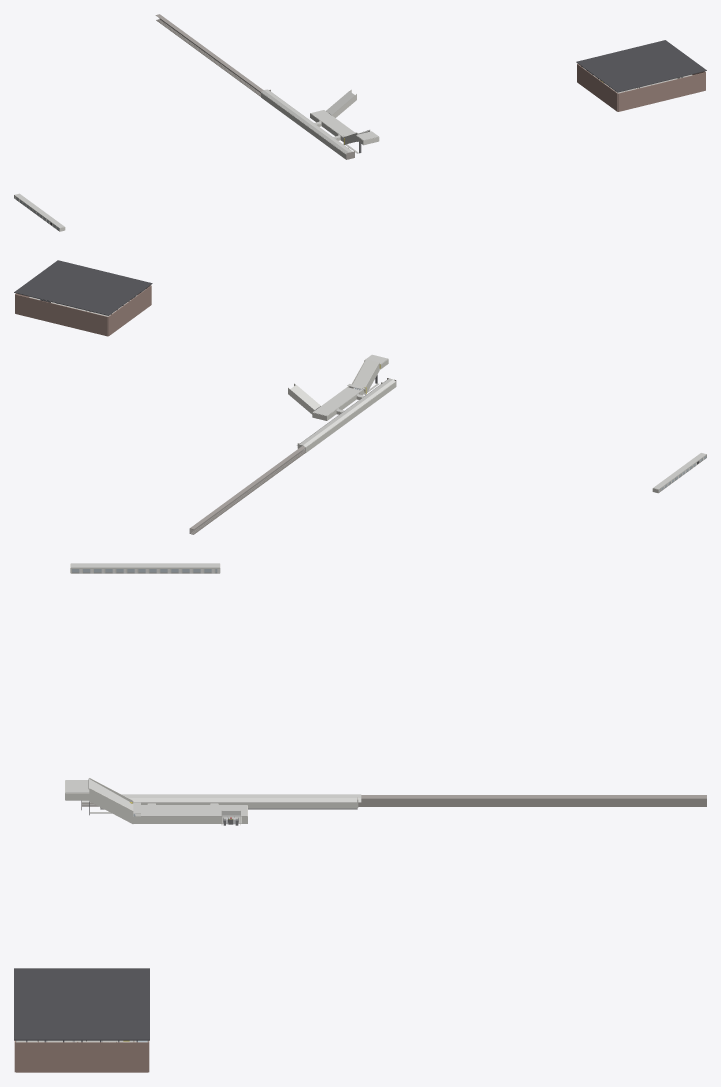
3 views of the same model, one above another, from view 1: azimuth 30°, elevation 25°; view 2: azimuth 150°, elevation 25°; view 3: azimuth 270°, elevation 25° (orthographic). The views are drawn at different scales.
Parts seen in each view (by area): view 1: S02_roof, S02_wall_s, S02_wall_w, S04_wall_w, S04_tunnel_top, S04_trackbed, S05_ceiling, S04_vault2, S04_vault1; view 2: S02_roof, S02_wall_n, S02_wall_w, S04_tunnel_top, S04_wall_w, S04_trackbed, S05_ceiling, S04_vault2; view 3: S02_roof, S02_wall_e, S04_tunnel_e, S04_tunnel_top, S05_ceiling, S04_vault0, S04_vault1.
Boxes of the visible parts, <box> form: S02_roof: <box>576,40,706,92</box>; S02_wall_s: <box>618,72,705,111</box>; S02_wall_w: <box>577,64,617,111</box>; S04_wall_w: <box>261,92,346,159</box>; S04_tunnel_top: <box>155,14,263,91</box>; S04_trackbed: <box>156,19,260,96</box>; S05_ceiling: <box>310,110,354,136</box>; S04_vault2: <box>261,90,348,153</box>; S04_vault1: <box>264,89,352,152</box>; S02_roof: <box>14,260,152,315</box>; S02_wall_n: <box>15,294,108,336</box>; S02_wall_w: <box>108,285,151,336</box>; S04_tunnel_top: <box>190,446,305,529</box>; S04_wall_w: <box>305,382,395,452</box>; S04_trackbed: <box>190,449,305,534</box>; S05_ceiling: <box>313,387,361,415</box>; S04_vault2: <box>303,379,395,447</box>; S02_roof: <box>14,968,149,1040</box>; S02_wall_e: <box>16,1042,148,1072</box>; S04_tunnel_e: <box>358,798,706,806</box>; S04_tunnel_top: <box>361,795,706,798</box>; S05_ceiling: <box>141,805,247,816</box>; S04_vault0: <box>82,798,361,802</box>; S04_vault1: <box>121,794,361,797</box>.
Bounding box in the file's own units: 649 × 21.9 × 377.
